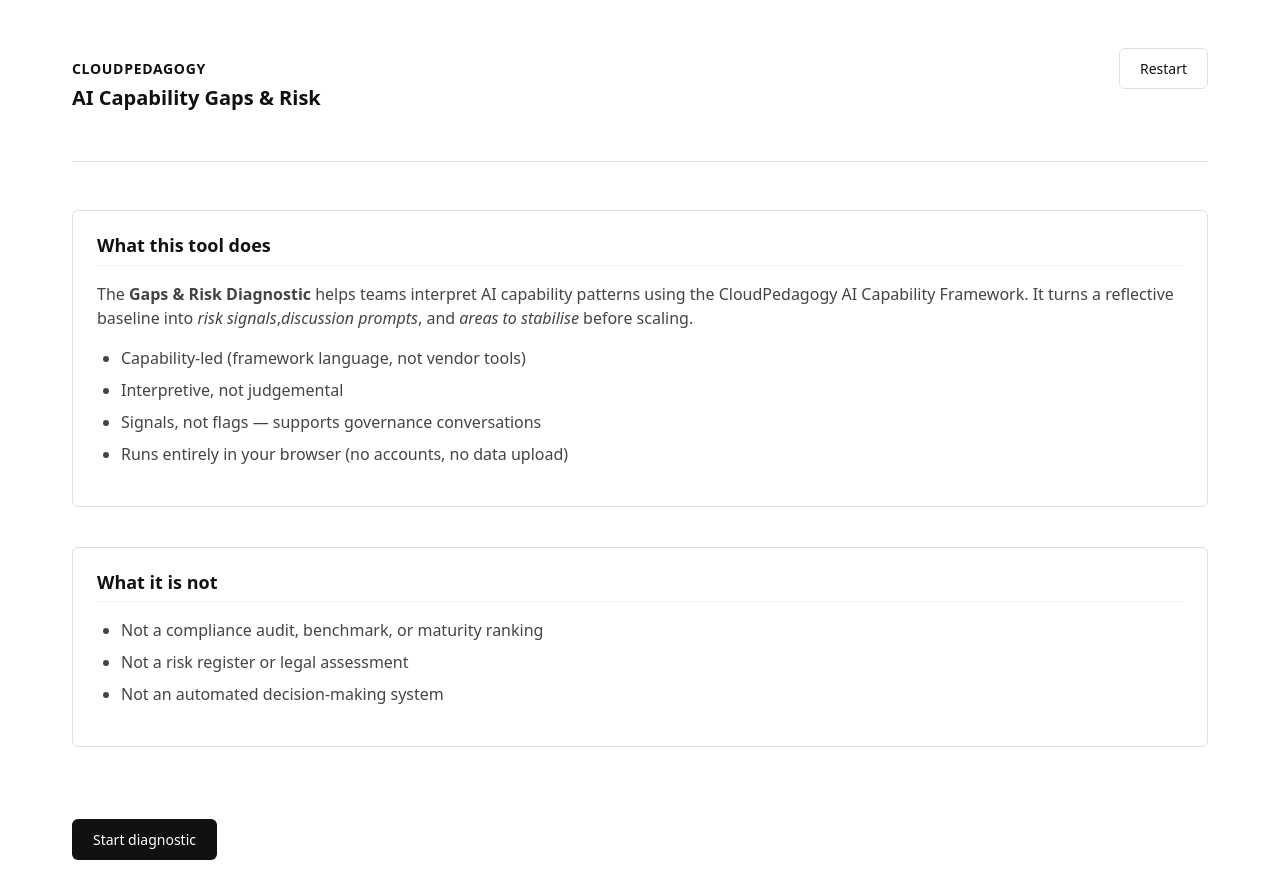
Scenario: Application End-to-End Workflow & Navigation › progresses from Intro to Diagnostic view when clicking Start
What coordinates should you click on to do the following:
click the button "Start diagnostic"
I would click on:
 (144, 840)
Its box is [72, 819, 217, 860].
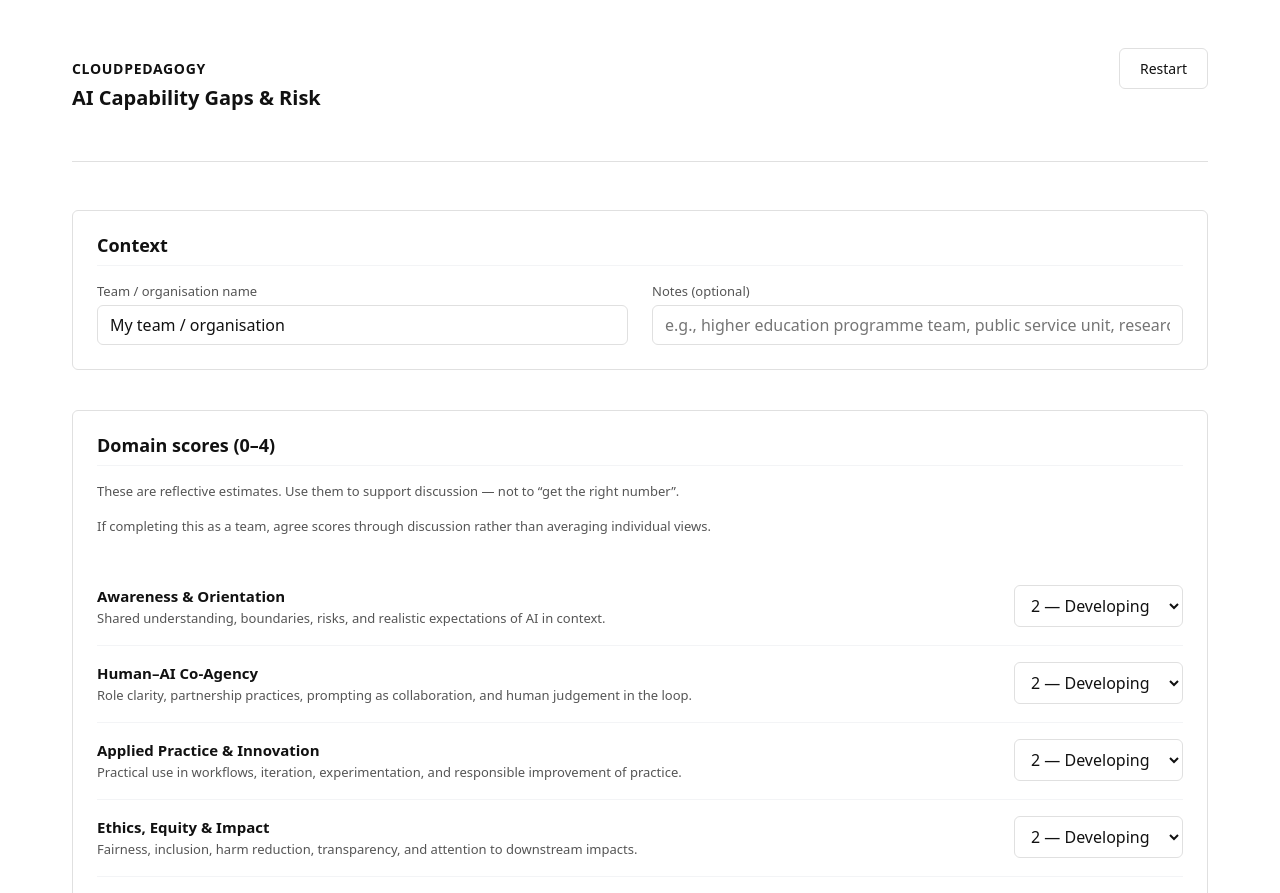
Expected: the heading "Context" is shown, [97, 235, 168, 257]
Expected: the heading "Domain scores (0–4)" is shown, [97, 435, 275, 457]
Expected: the field showing "My team / organisation" is shown, [97, 305, 628, 345]
